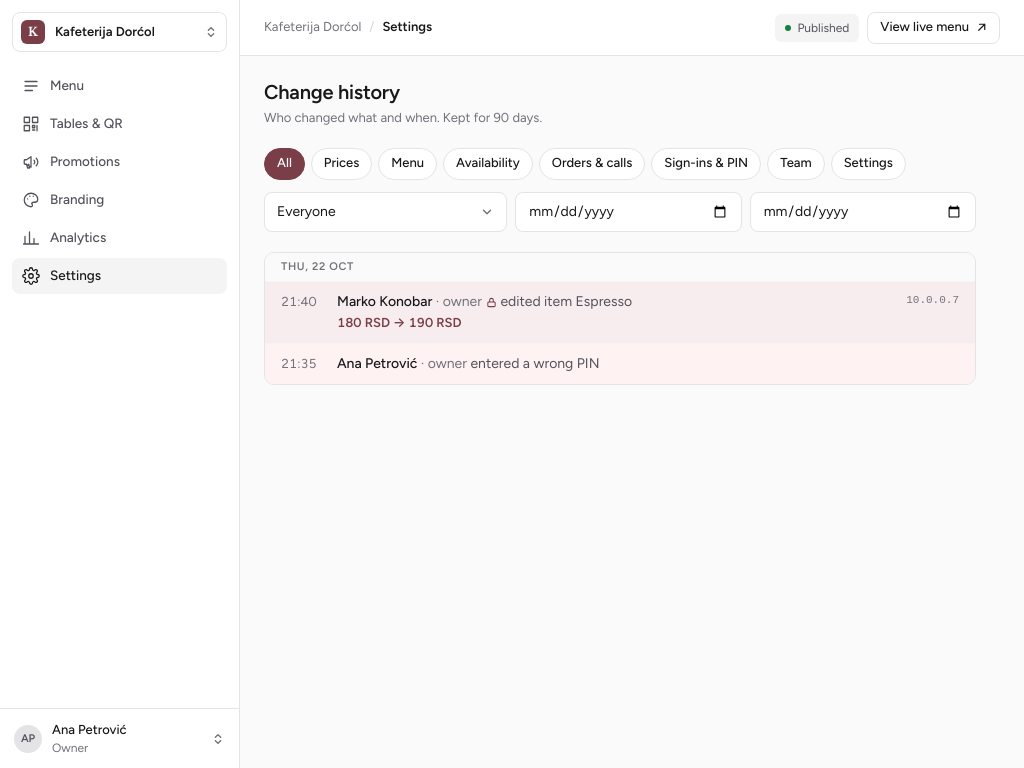
Test case: owner PIN (Phase 11) › shows the change history with price changes highlighted and filters by kind
Expected: the heading "Change history" is shown, [264, 80, 400, 104]
Expected: the text "Marko Konobar" is shown, [337, 293, 432, 310]
Click the tab "Sign-ins & PIN" at {"x": 706, "y": 164}, box [651, 148, 761, 180]
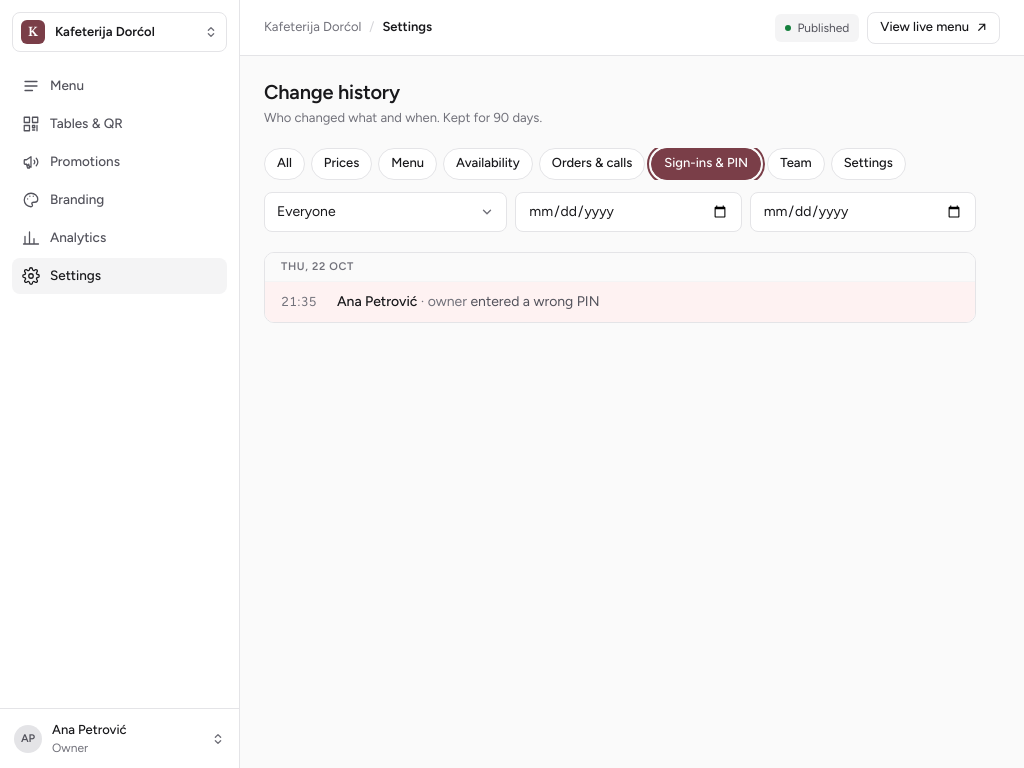
Expected: the text "edited item Espresso" is gone
